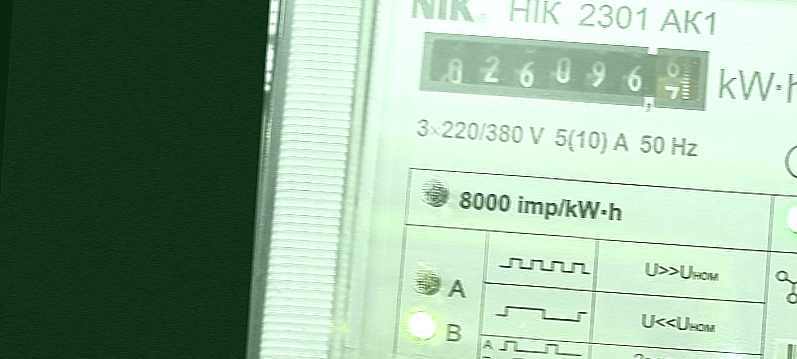0: (550, 51, 573, 87), (442, 51, 465, 85)
2: (478, 50, 502, 86)
6: (515, 54, 537, 90), (623, 59, 643, 93), (661, 51, 682, 79)
7: (661, 80, 680, 102)
9: (586, 56, 608, 89)
screen: (407, 20, 717, 122)
